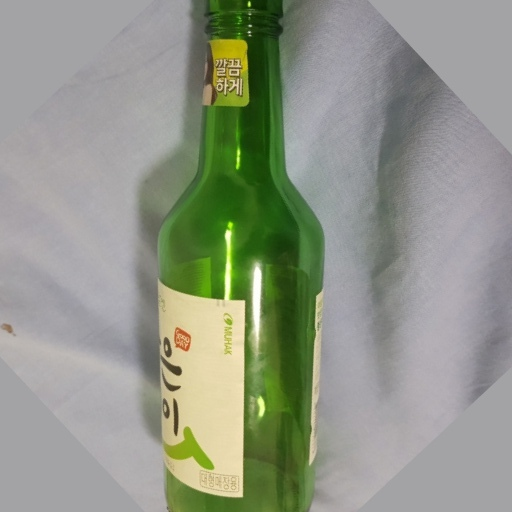Glass_0: (148, 1, 332, 512)
